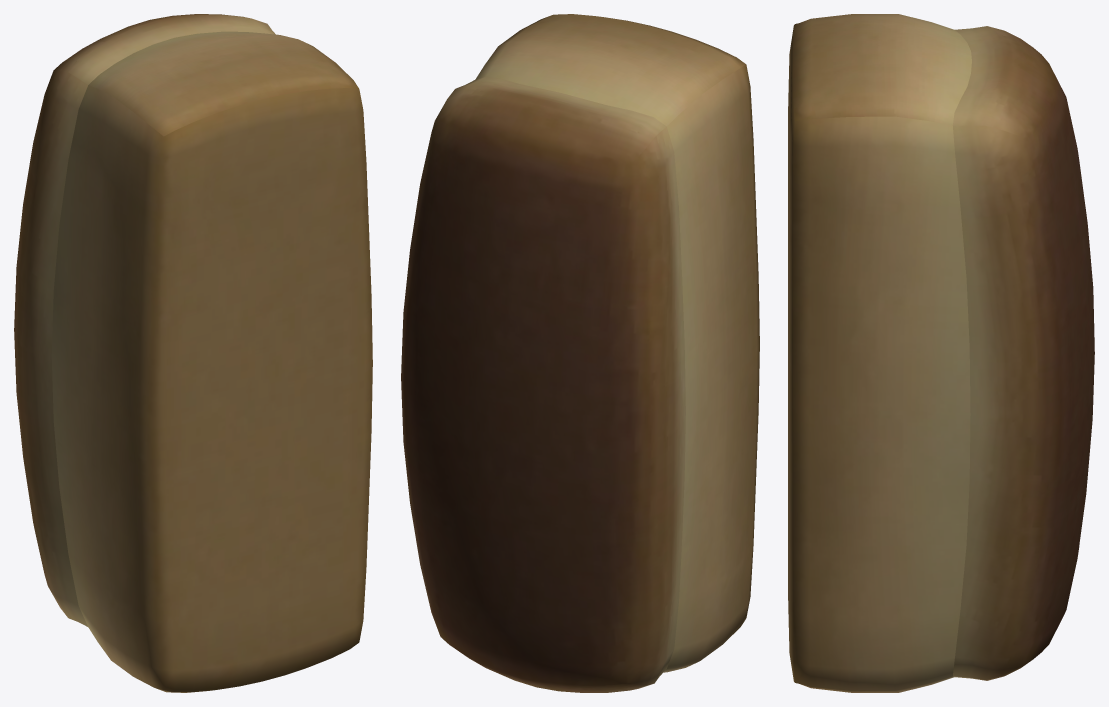
The picture shows the model from 3 angles, left to right: view 1: azimuth 30°, elevation 25°; view 2: azimuth 150°, elevation 25°; view 3: azimuth 270°, elevation 25°; orthographic projection.
Parts seen in each view (by area): view 1: body0_model0_lod0_mesh0; view 2: body0_model0_lod0_mesh0; view 3: body0_model0_lod0_mesh0.
Part boxes in pixels (x1,y1,x2,y2): body0_model0_lod0_mesh0: (14, 14, 372, 692); body0_model0_lod0_mesh0: (401, 14, 759, 692); body0_model0_lod0_mesh0: (788, 14, 1094, 692).
Size of the model in its own units: 7.09 by 15.82 by 7.13.
1 material, 1 textured.
